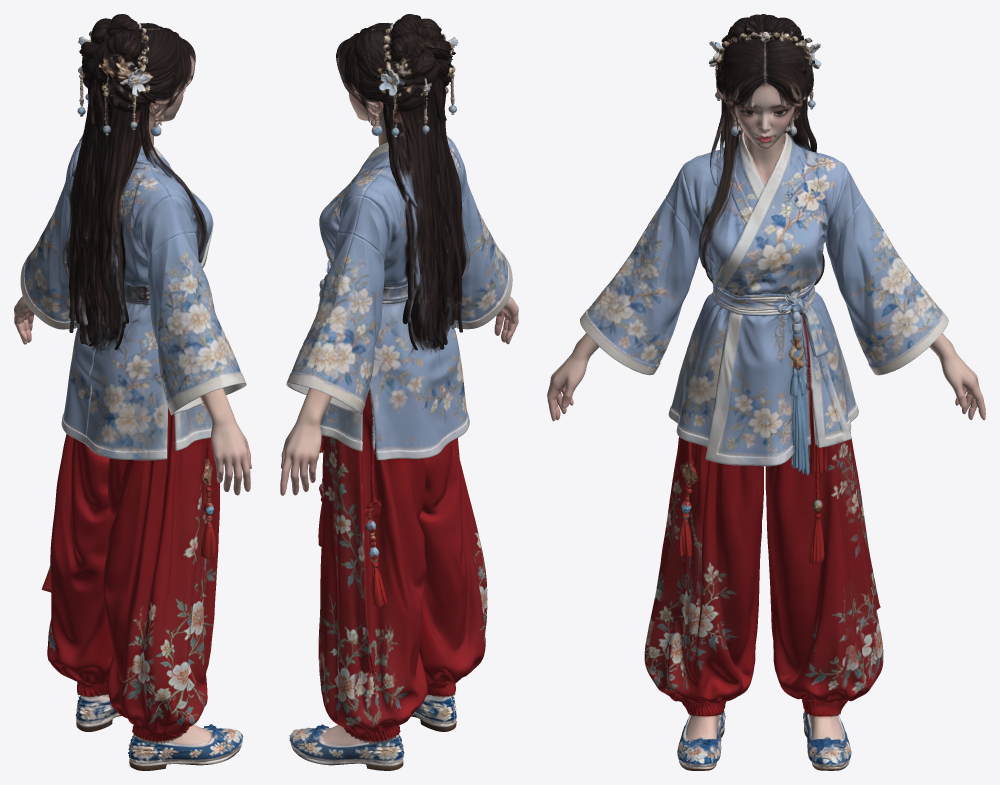
File: HanfuBlueRed_NoRig.fbx
The picture shows the model from 3 angles, left to right: view 1: azimuth 30°, elevation 25°; view 2: azimuth 150°, elevation 25°; view 3: azimuth 270°, elevation 25°; orthographic projection.
Visible parts, largest first — view 1: tripo_node_1e91e0a9; view 2: tripo_node_1e91e0a9; view 3: tripo_node_1e91e0a9.
Part boxes in pixels (bbox=[...]): tripo_node_1e91e0a9: bbox=[14, 14, 251, 770]; tripo_node_1e91e0a9: bbox=[280, 14, 518, 770]; tripo_node_1e91e0a9: bbox=[547, 14, 985, 770].
Size of the model in its own units: 20.5 by 97.85 by 53.94.
Materials: 1 (1 with a texture image).
